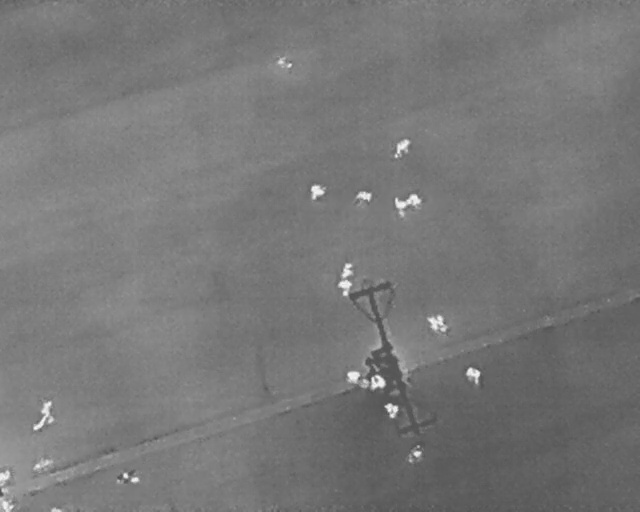Person: (30, 396, 61, 436), (390, 190, 426, 216), (114, 468, 141, 486), (427, 314, 450, 333), (407, 444, 425, 464), (370, 374, 387, 393), (395, 137, 410, 158), (466, 365, 481, 386), (382, 401, 399, 419), (309, 185, 326, 201), (338, 279, 352, 297), (354, 190, 372, 203), (342, 261, 354, 279), (0, 466, 10, 486), (346, 371, 361, 383), (0, 499, 14, 511)
